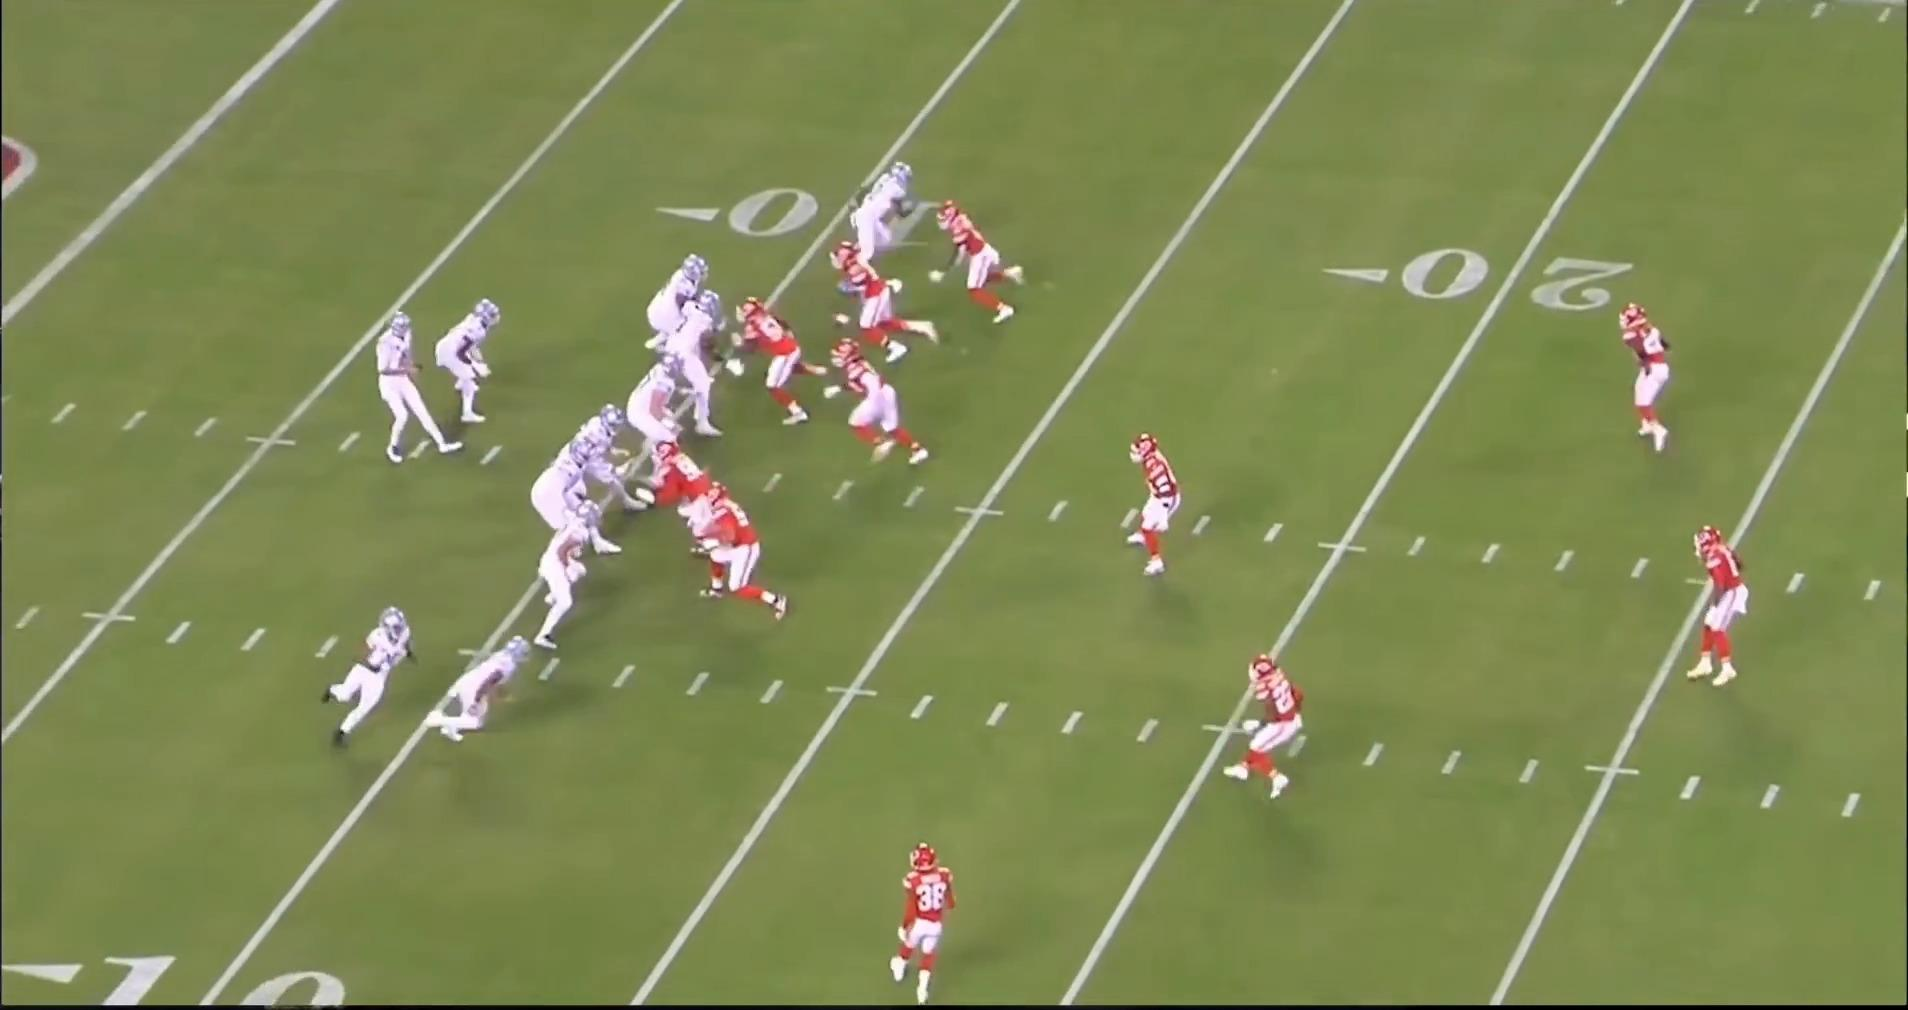player: (372, 309, 471, 472), (814, 340, 928, 476), (726, 292, 836, 432), (327, 601, 428, 753), (685, 479, 790, 621), (1215, 649, 1307, 805), (835, 239, 947, 367), (616, 431, 720, 559), (926, 199, 1023, 330), (420, 632, 527, 747), (1687, 523, 1758, 693), (526, 498, 603, 654), (888, 839, 961, 998), (533, 440, 619, 570), (1613, 296, 1680, 460), (676, 287, 744, 441), (1122, 422, 1186, 581), (625, 354, 695, 498), (430, 296, 500, 431), (557, 403, 633, 520), (839, 155, 915, 267), (636, 242, 708, 356)
